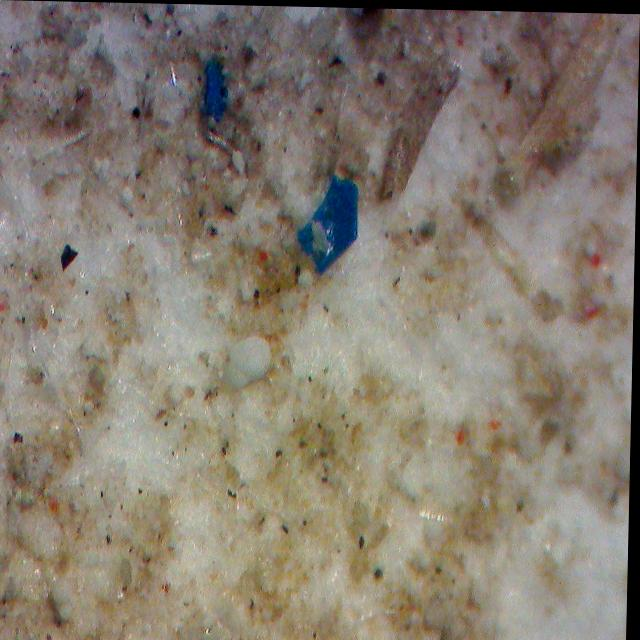microplastic: (286, 167, 384, 283), (201, 52, 228, 122)
